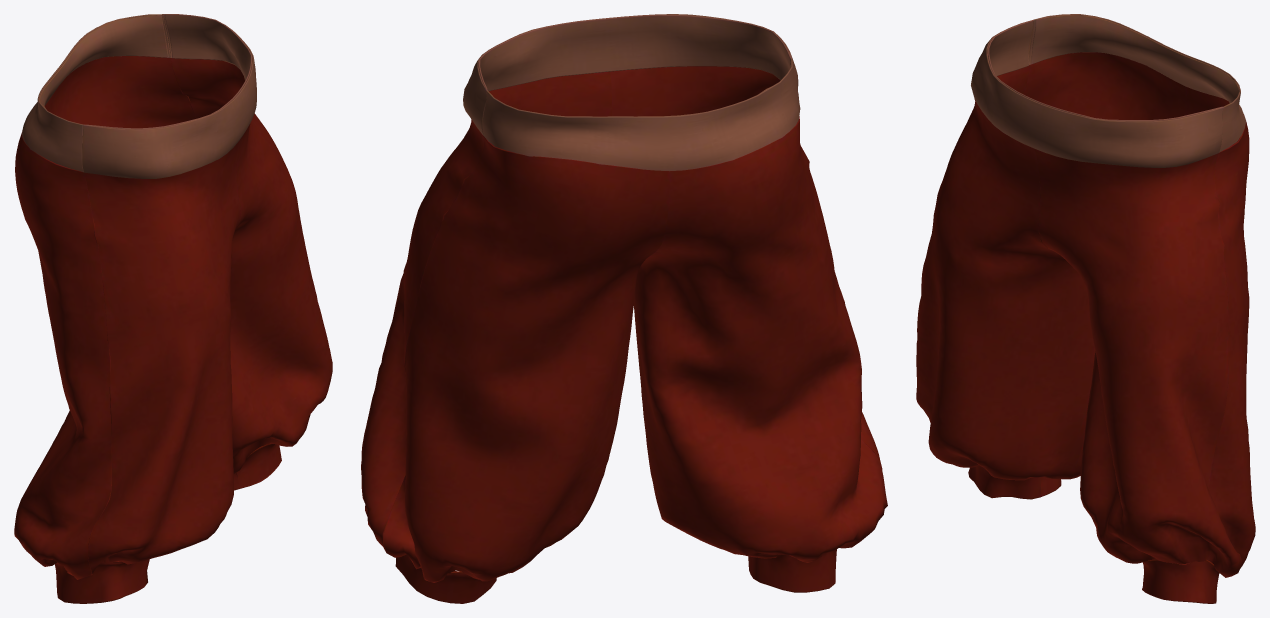
File: COSSACK_BLOOMERS_4#10.glb
The picture shows the model from 3 angles, left to right: view 1: azimuth 30°, elevation 25°; view 2: azimuth 150°, elevation 25°; view 3: azimuth 270°, elevation 25°; orthographic projection. The views are drawn at different scales.
Visible parts, largest first — view 1: niz_kazak_2_lev; view 2: niz_kazak_2_lev; view 3: niz_kazak_2_lev.
Boxes of the visible parts, x1,y1,x2,y2 form: niz_kazak_2_lev: (14,14,332,603); niz_kazak_2_lev: (361,14,887,603); niz_kazak_2_lev: (916,14,1255,603).
Size of the model in its own units: 3.74 by 4.61 by 2.98.
1 material, 1 textured.
